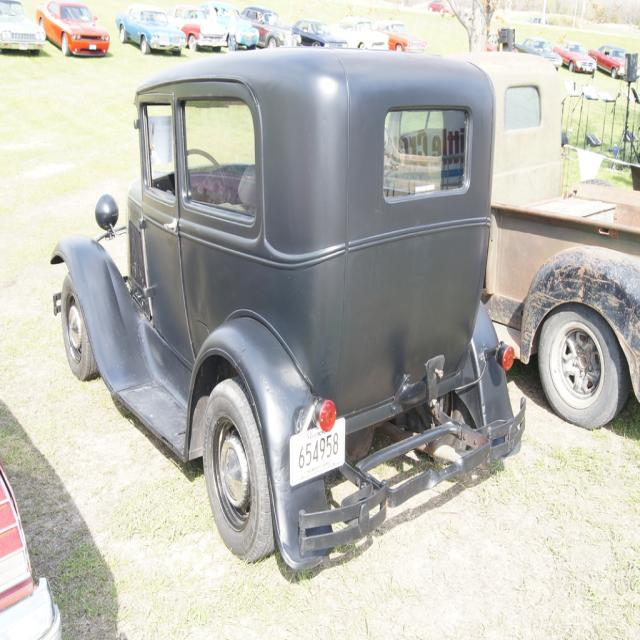car: (48, 42, 534, 565), (34, 0, 109, 53), (114, 0, 184, 51), (166, 0, 225, 48), (589, 45, 639, 76), (553, 41, 594, 71)
